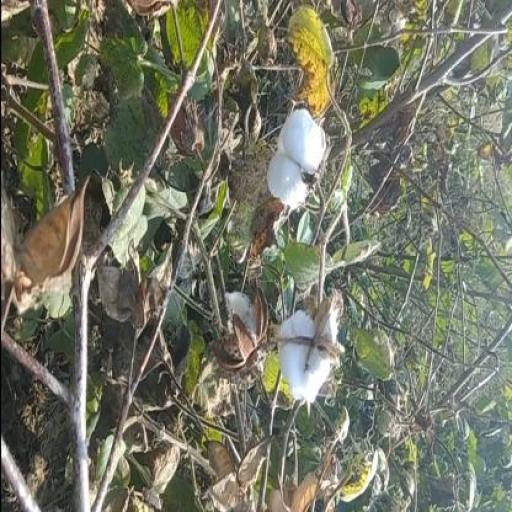cotton_ready: (273, 274, 350, 418), (254, 86, 329, 228)
